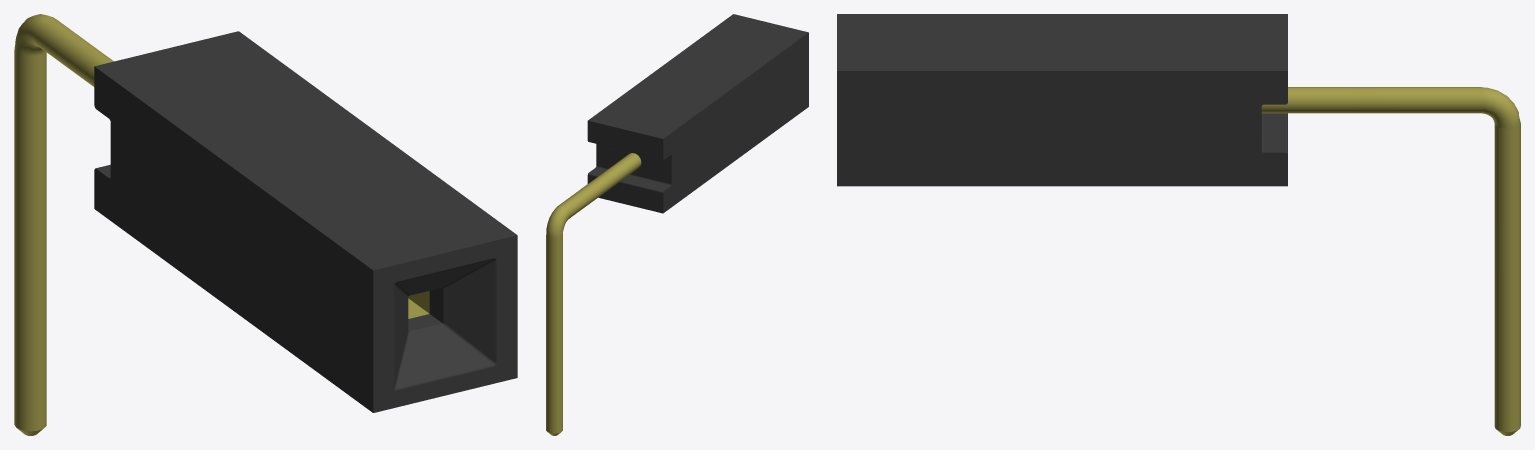
File: Buchsenleiste_female_90_2.obj
3 views of the same model, side by side, from view 1: azimuth 30°, elevation 25°; view 2: azimuth 150°, elevation 25°; view 3: azimuth 270°, elevation 25° (orthographic). The views are drawn at different scales.
Parts seen in each view (by area): view 1: Volumenkörper1; view 2: Volumenkörper1; view 3: Volumenkörper1.
Part boxes in pixels (box(x1,y1,x2,y2)): Volumenkörper1: box(14, 14, 517, 435); Volumenkörper1: box(546, 14, 808, 435); Volumenkörper1: box(837, 14, 1520, 435).
Bounding box in the file's own units: 2.54 × 8.14 × 12.89.
